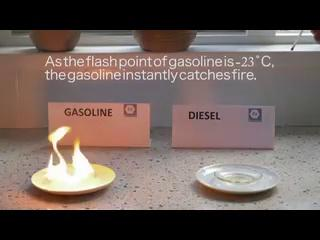Fire: (36, 135, 102, 192)
